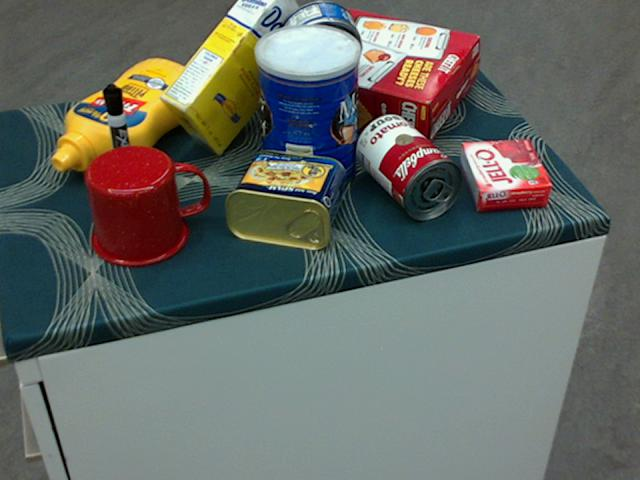cracker_box: (252, 0, 477, 150)
gelatin_box: (458, 139, 551, 209)
large_marker: (101, 84, 138, 194)
master_chef_can: (254, 24, 360, 195)
mug: (85, 144, 209, 266)
mustard_bottle: (50, 59, 204, 171)
potted_meat_can: (224, 150, 344, 249)
sugar_box: (158, 0, 313, 157)
tomato_soup_can: (355, 113, 462, 219)
tuna_fish_can: (277, 0, 361, 83)
